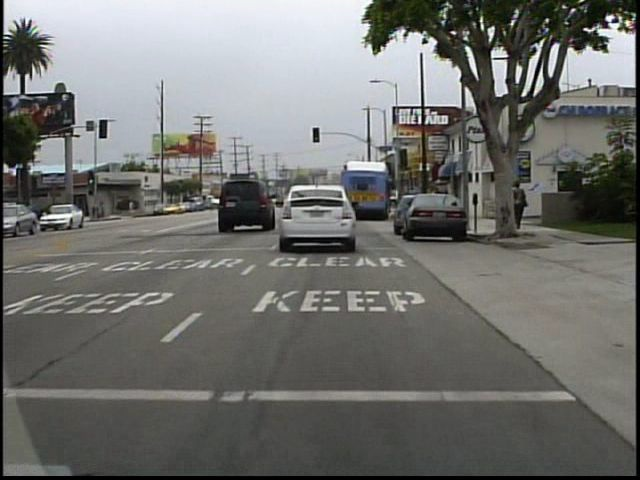person: (505, 178, 524, 229), (512, 178, 528, 231), (127, 196, 138, 218)
